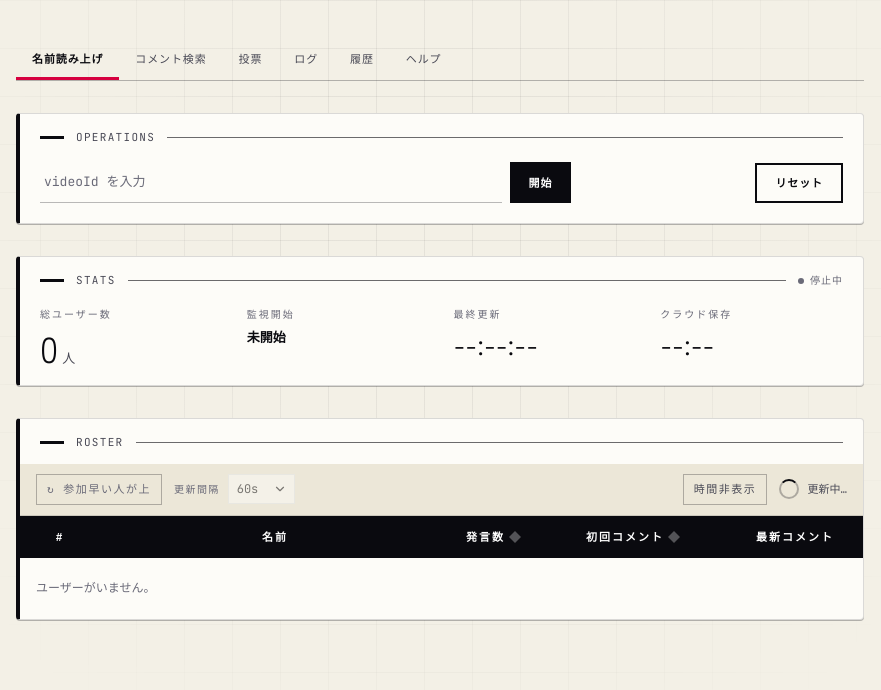
Test: App Integration (MSW) › 履歴タブに切り替えると HistoryTab コンポーネントが表示される
// 履歴タブクリックで HistoryTab が表示される
Click the tab "履歴" at (362, 60), box 334,40 -> 390,80
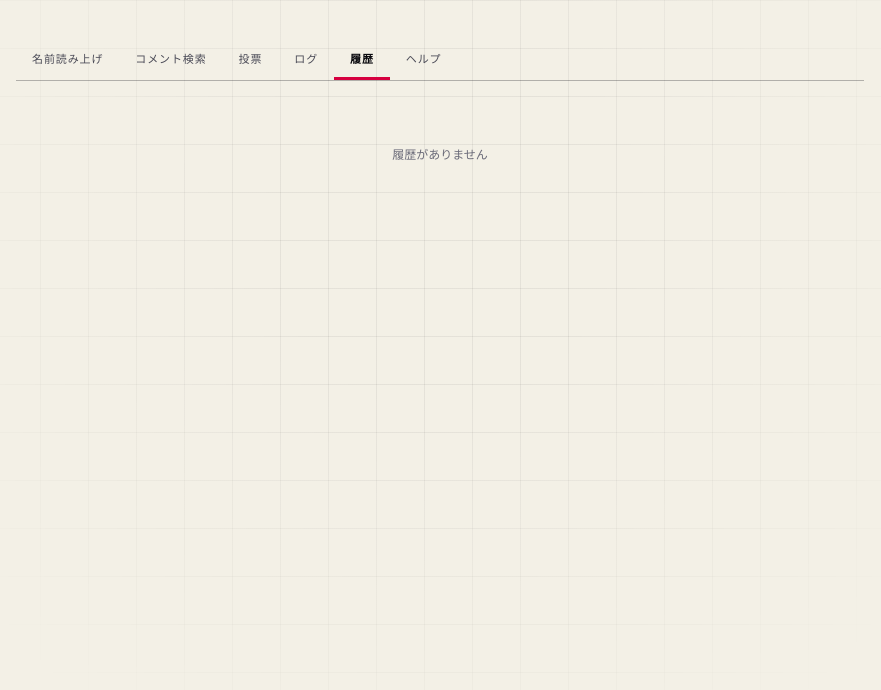
Expected: the text "履歴がありません" is shown, 392,147 -> 488,163
